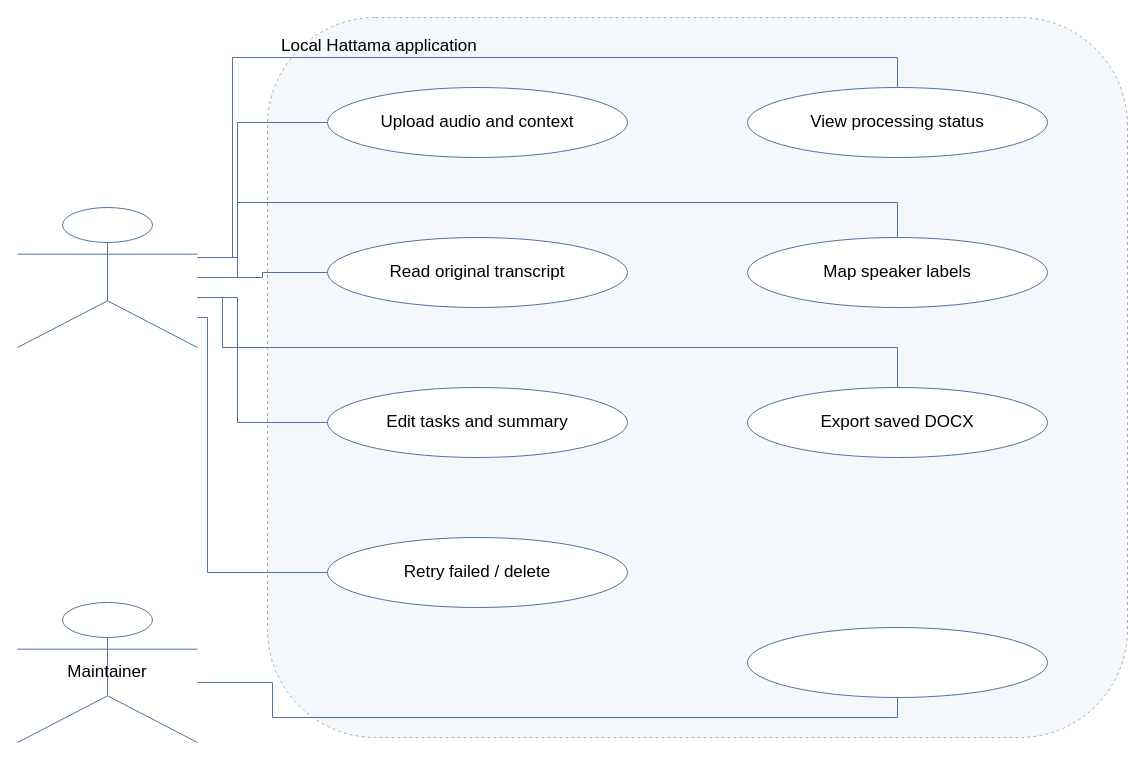
The diagram is 1145 pixels wide and 760 high, and some of its shapes have lost their labels. The centre of each missing label's shape, as x and y in pixels:
Configure local models: the point at 897,662
Local user: the point at 107,277
